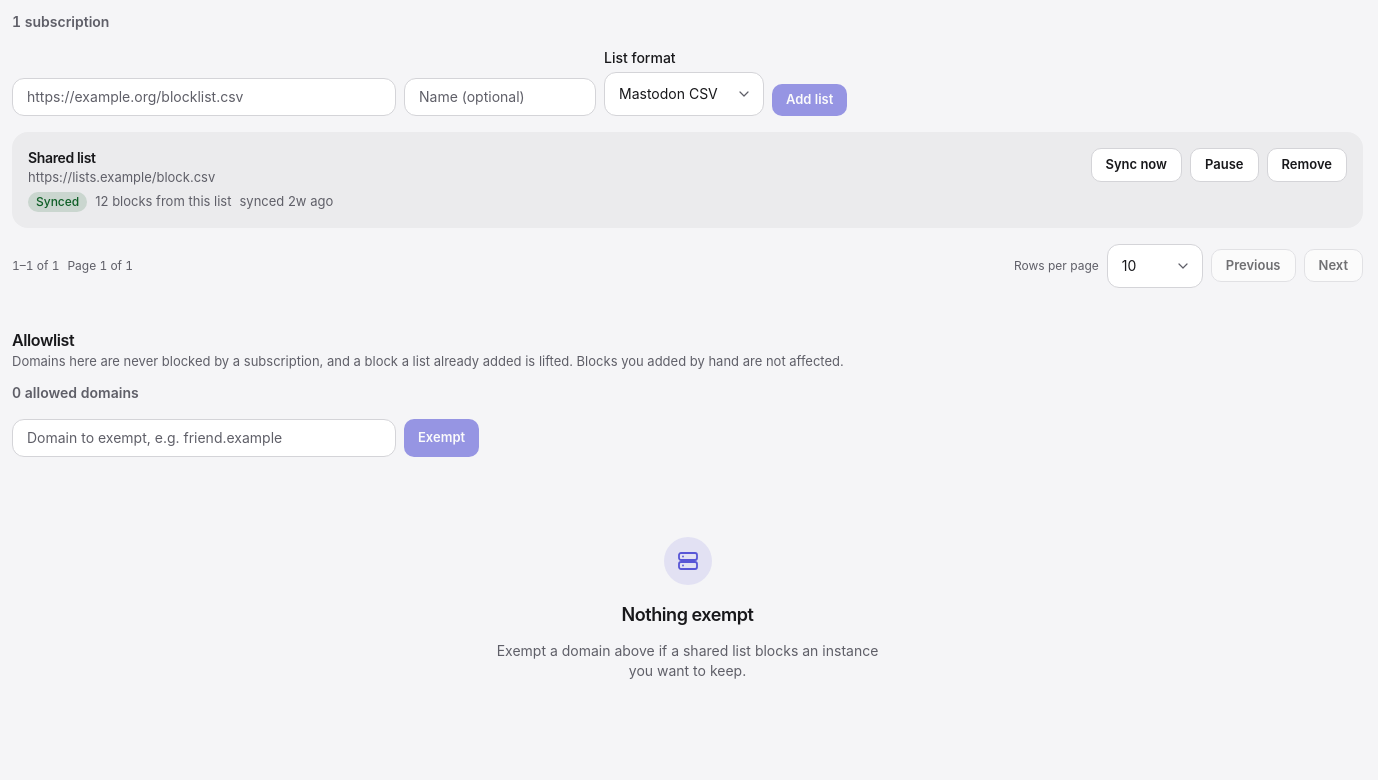
Test case: AdminBlocklistSubscriptionsView › syncs now and reports added/removed and the ignored severities
Click the button with aria-label "Sync Shared list now": (1136, 165) [1090,148,1182,182]
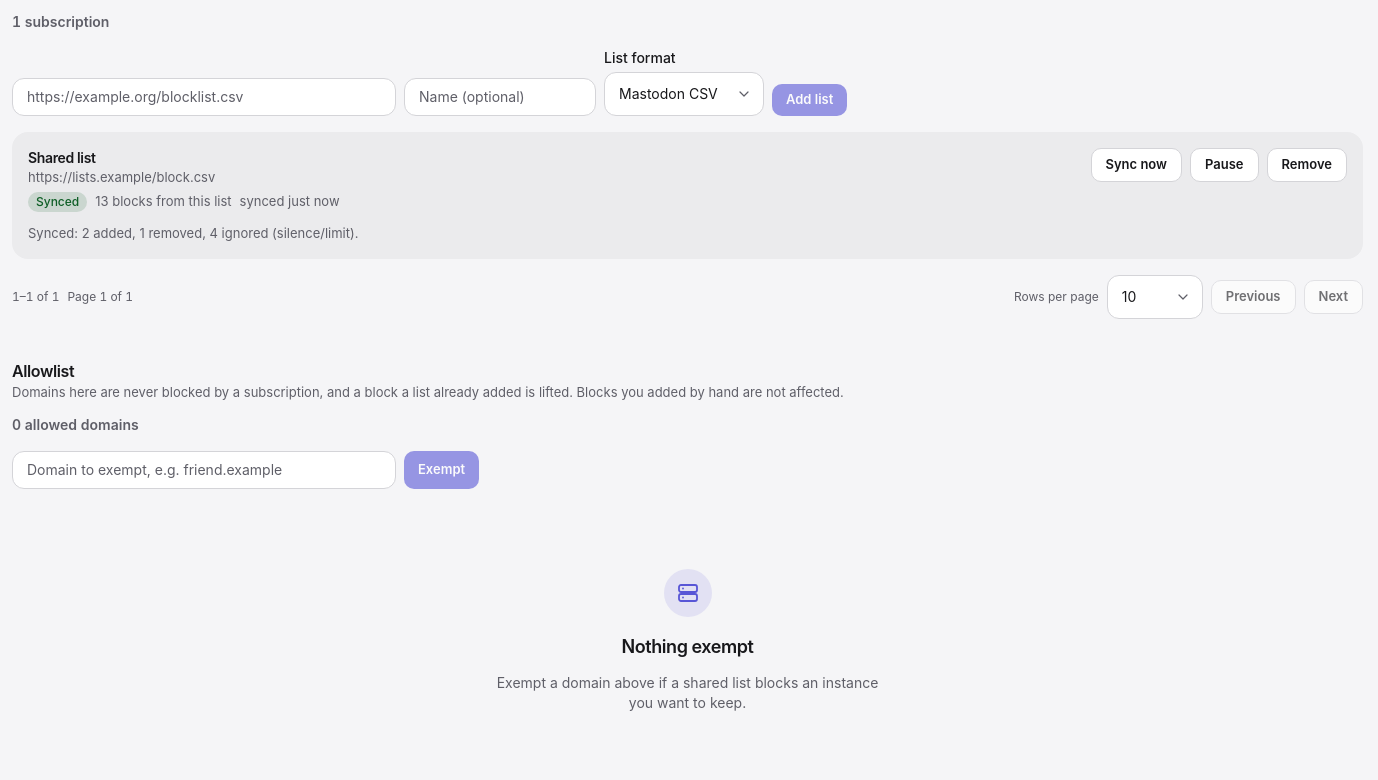
Check: the text "Synced: 2 added, 1 removed, 4 ignored (silence/limit)." is shown, box [28,224,358,240]
Check: the text "13 blocks from this list" is shown, box [95,192,232,211]
